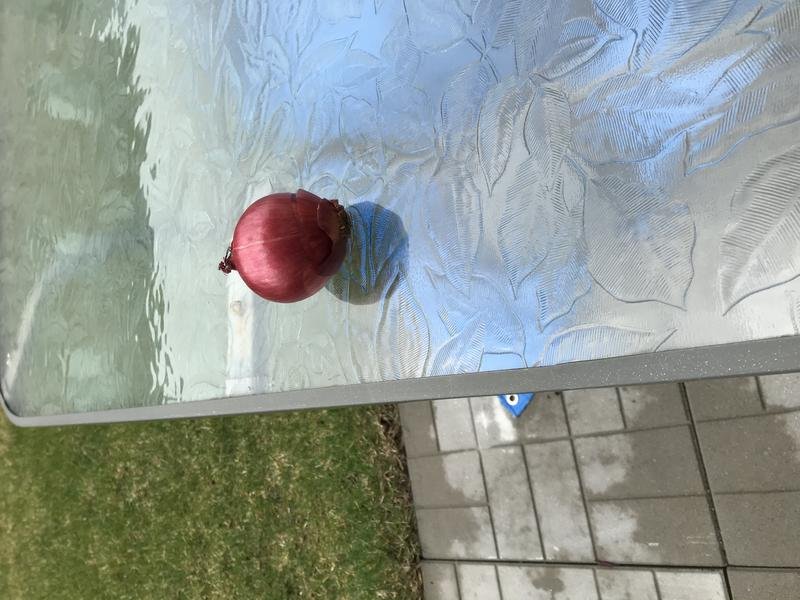purple_onion: (217, 181, 362, 312)
